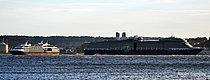Ship: (79, 31, 208, 59), (7, 37, 65, 58)
